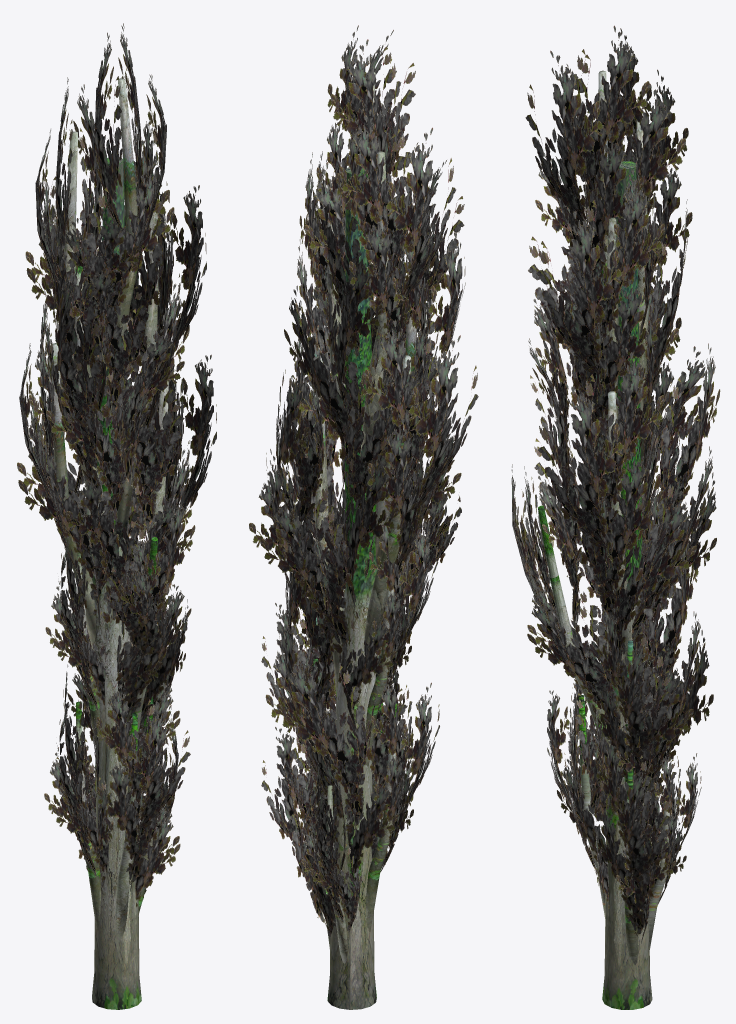
File: tree1.obj
3 views of the same model, side by side, from view 1: azimuth 30°, elevation 25°; view 2: azimuth 150°, elevation 25°; view 3: azimuth 270°, elevation 25° (orthographic).
Parts seen in each view (by area): view 1: branch; view 2: branch; view 3: branch.
Part boxes in pixels (bbox=[...]): branch: bbox=[17, 23, 216, 1009]; branch: bbox=[249, 25, 478, 1009]; branch: bbox=[511, 25, 720, 1009].
Size of the model in its own units: 123 by 650 by 126.
1 material, 1 textured.
